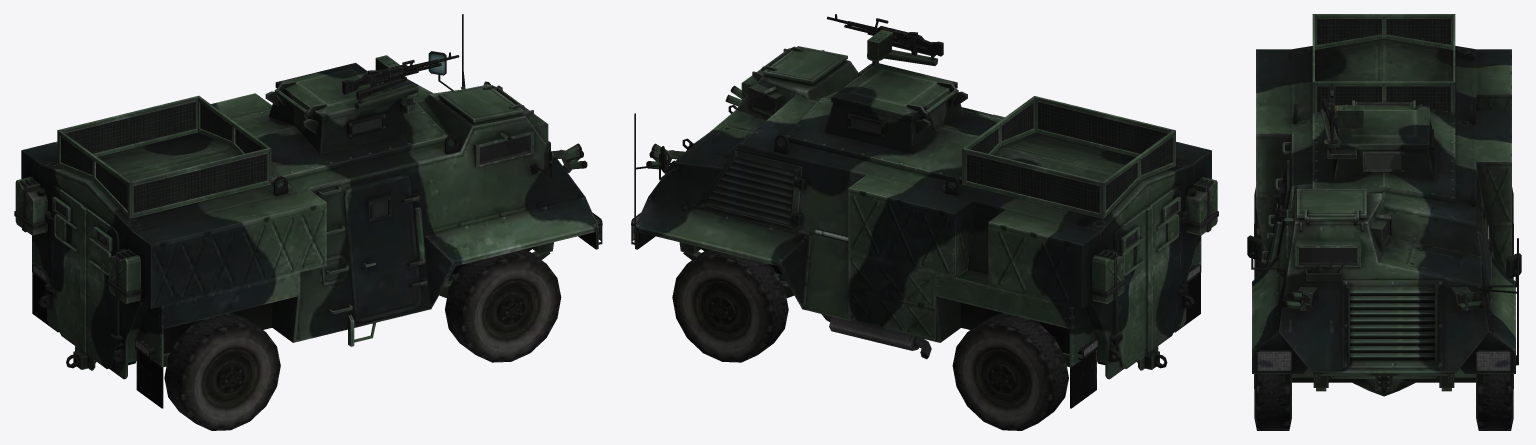
The model's file is scene-apc.glb.
3 renders of one model, left to right at view 1: azimuth 30°, elevation 25°; view 2: azimuth 150°, elevation 25°; view 3: azimuth 270°, elevation 25°, orthographic.
Parts seen in each view (by area): view 1: base; view 2: base; view 3: base.
Boxes of the visible parts, box(x1,y1,x2,y2) form: base: box(14, 14, 602, 430); base: box(631, 14, 1218, 430); base: box(1247, 14, 1521, 430).
Bounding box in the file's own units: 5.3 × 3.02 × 2.61.
3 materials, 1 textured.
